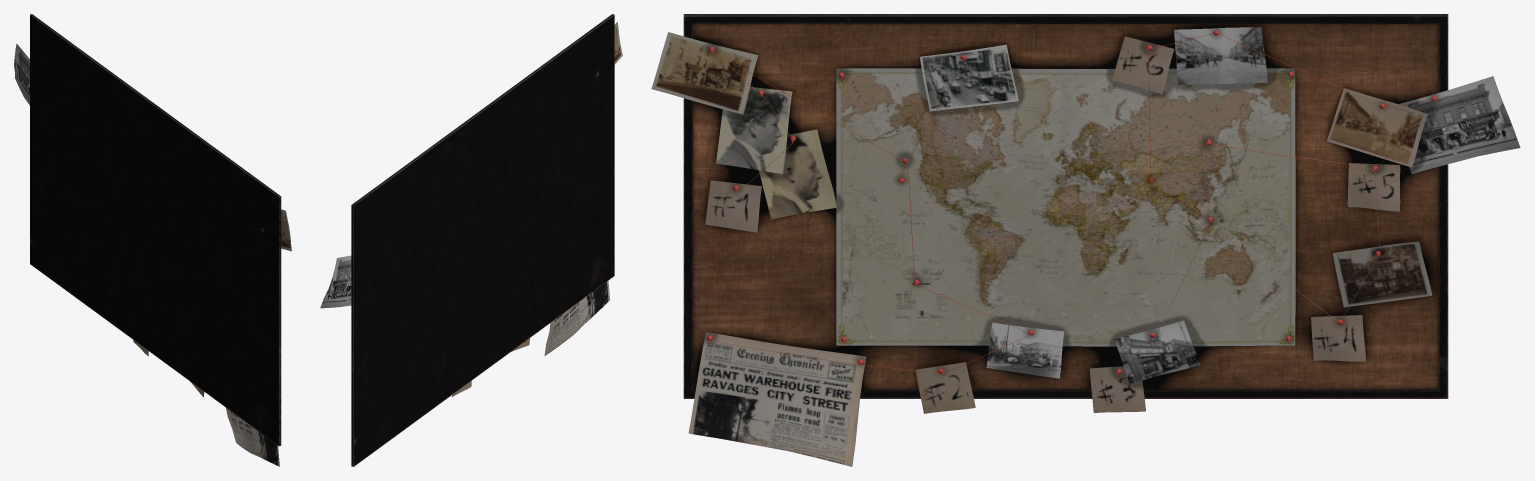
Rendered from investigation-board.glb.
3 renders of one model, left to right at view 1: azimuth 30°, elevation 25°; view 2: azimuth 150°, elevation 25°; view 3: azimuth 270°, elevation 25°, orthographic. The views are drawn at different scales.
Visible parts, largest first — view 1: Cube.099, Plane.062, Plane.070, Plane.067; view 2: Cube.099, Plane.062, Plane.070; view 3: Plane.058, Cube.099, Plane.062, Plane.070, Plane.067, Plane.061, Plane.069, Plane.072, Plane.071, Plane.059, Plane.060, Plane.066 (+7 smaller).
Part boxes in pixels (x1,y1,x2,y2): Cube.099: (30,14,281,446); Plane.062: (226,408,279,466); Plane.070: (14,43,29,105); Plane.067: (281,209,291,251); Cube.099: (351,14,614,466); Plane.062: (544,281,610,356); Plane.070: (320,255,351,308); Plane.058: (836,68,1295,346); Cube.099: (683,14,1448,398); Plane.062: (688,331,866,466); Plane.070: (1398,76,1520,173); Plane.067: (651,32,758,114); Plane.061: (919,44,1018,111); Plane.069: (1327,88,1427,167); Plane.072: (1174,27,1267,84); Plane.071: (1332,241,1432,307); Plane.059: (716,87,792,173); Plane.060: (759,129,837,219); Plane.066: (1114,320,1200,384).
Size of the model in its own units: 0.0591 by 1.35 by 2.4.
1 material, 1 textured.
